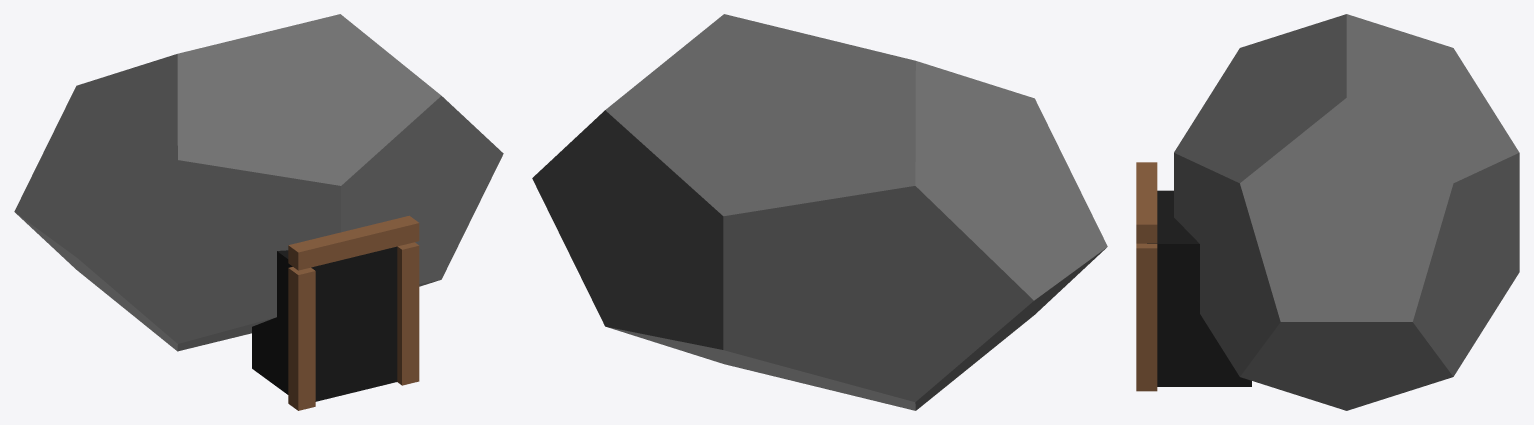
The model's file is mine.glb.
The picture shows the model from 3 angles, left to right: view 1: azimuth 30°, elevation 25°; view 2: azimuth 150°, elevation 25°; view 3: azimuth 270°, elevation 25°; orthographic projection. The views are drawn at different scales.
Visible parts, largest first — view 1: node_0, node_1, node_2, node_4, node_3; view 2: node_0; view 3: node_0, node_1, node_3, node_4.
Part boxes in pixels (<box>): node_0: <box>14,14,503,351</box>; node_1: <box>252,246,397,401</box>; node_2: <box>288,267,315,410</box>; node_4: <box>288,215,419,270</box>; node_3: <box>397,242,419,385</box>; node_0: <box>532,14,1107,410</box>; node_0: <box>1174,14,1519,410</box>; node_1: <box>1147,190,1251,386</box>; node_3: <box>1136,243,1157,391</box>; node_4: <box>1136,162,1157,243</box>.
Size of the model in its own units: 0.4932 by 0.3288 by 0.3644.
